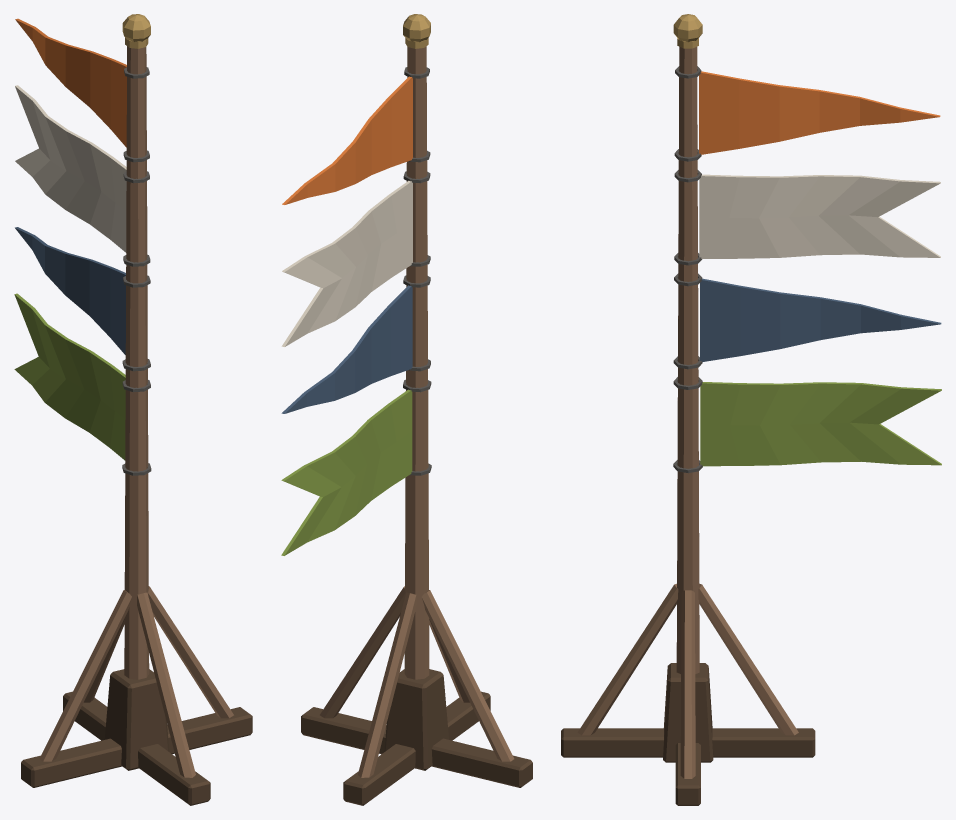
3 views of the same model, side by side, from view 1: azimuth 30°, elevation 25°; view 2: azimuth 150°, elevation 25°; view 3: azimuth 270°, elevation 25° (orthographic).
Parts seen in each view (by area): view 1: C10_pole, flag_02, flag_04, flag_01, flag_03; view 2: C10_pole, flag_04, flag_02, flag_03, flag_01; view 3: C10_pole, flag_04, flag_02, flag_01, flag_03.
Part boxes in pixels (box(x1,y1,x2,y2)): C10_pole: box(21, 14, 252, 805); flag_02: box(15, 85, 126, 252); flag_04: box(14, 293, 125, 460); flag_01: box(15, 18, 126, 147); flag_03: box(15, 227, 125, 354); C10_pole: box(301, 14, 532, 805); flag_04: box(281, 389, 412, 555); flag_02: box(281, 180, 412, 346); flag_03: box(281, 285, 412, 413); flag_01: box(282, 76, 412, 204); C10_pole: box(561, 14, 815, 805); flag_04: box(700, 382, 941, 466); flag_02: box(699, 174, 940, 258); flag_01: box(699, 71, 940, 154); flag_03: box(700, 278, 941, 361).
Size of the model in its own units: 1 by 3.2 by 1.5.
